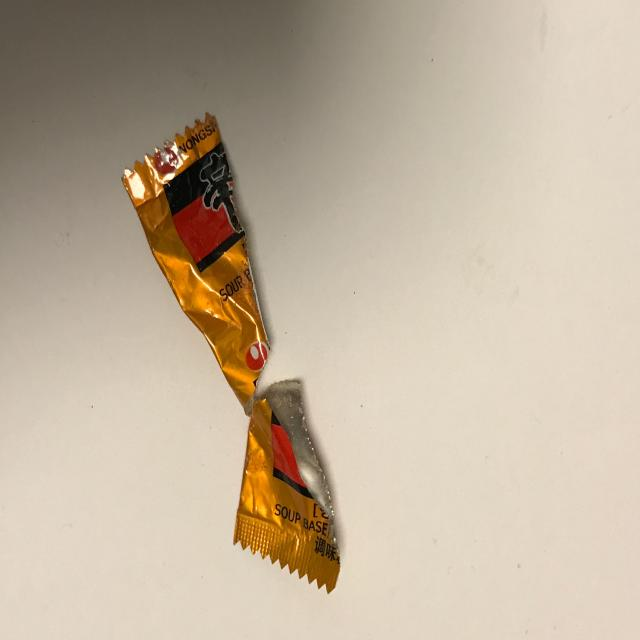Trash: (92, 116, 380, 618)
